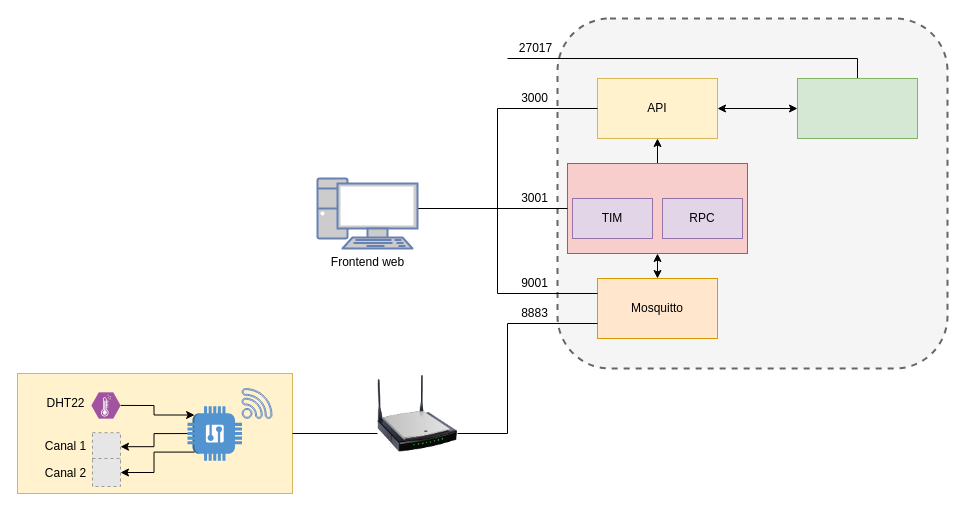
Image size: 966x511. Some labels were removed from this diagram. Grey dashed boxes stand in for pictures. The box of each missing label's shape, as (x1, y1, x2, y2) in pixels:
CORE: (566, 162, 748, 254)
MongoDB: (796, 78, 918, 138)
